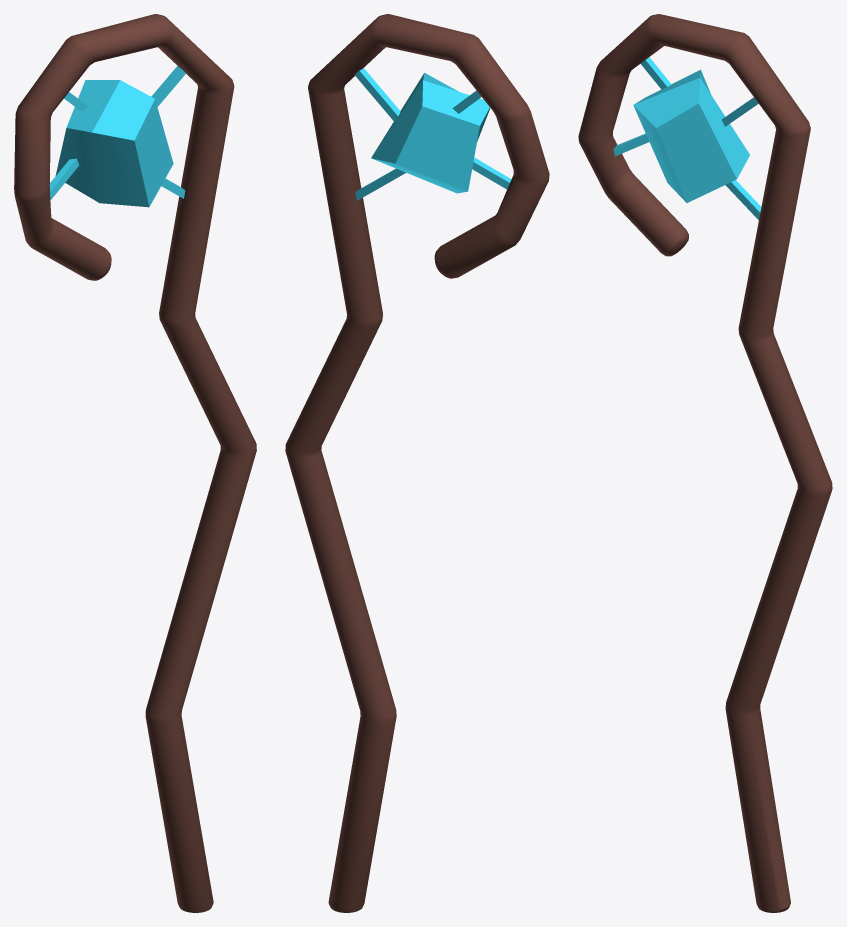
File: MagicWand2.fbx
The picture shows the model from 3 angles, left to right: view 1: azimuth 30°, elevation 25°; view 2: azimuth 150°, elevation 25°; view 3: azimuth 330°, elevation 25°; orthographic projection. The views are drawn at different scales.
Parts seen in each view (by area): view 1: MagicWand2; view 2: MagicWand2; view 3: MagicWand2.
Boxes of the visible parts, left/top/right/bottom form: MagicWand2: left=14, top=14, right=256, bottom=912; MagicWand2: left=285, top=14, right=549, bottom=912; MagicWand2: left=578, top=14, right=832, bottom=912.
Size of the model in its own units: 0.2314 by 0.8004 by 0.0815.
